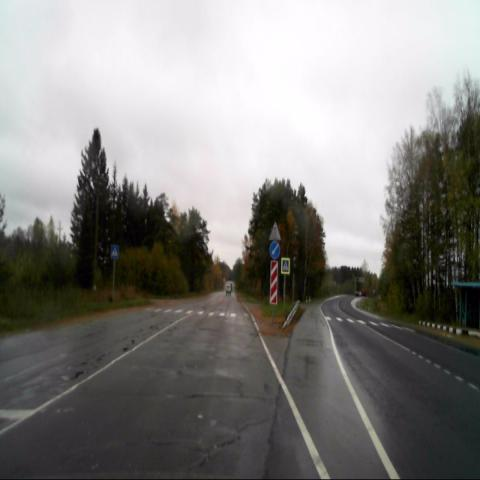4_2_2: (269, 240, 280, 260)
